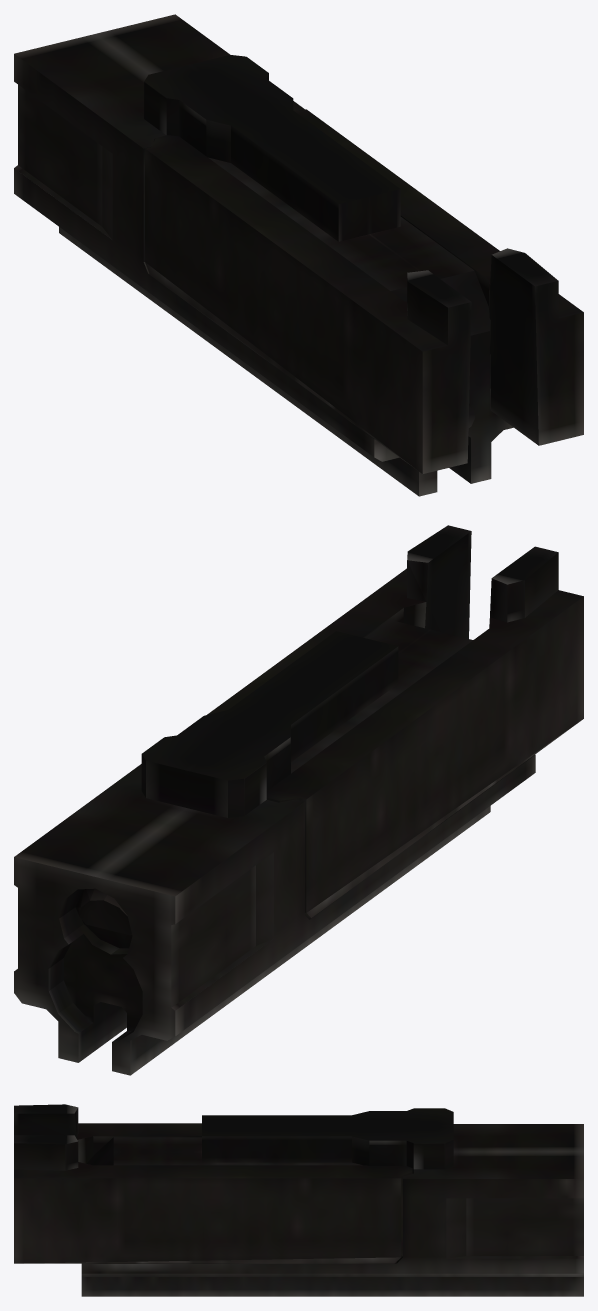
3 renders of one model, top to bottom at view 1: azimuth 30°, elevation 25°; view 2: azimuth 150°, elevation 25°; view 3: azimuth 270°, elevation 25°, orthographic. The views are drawn at different scales.
Parts seen in each view (by area): view 1: TW_6513ef33e06849f06c0957ca_PZ_Import; view 2: TW_6513ef33e06849f06c0957ca_PZ_Import; view 3: TW_6513ef33e06849f06c0957ca_PZ_Import.
Part boxes in pixels (left/top/right/bottom): TW_6513ef33e06849f06c0957ca_PZ_Import: left=14, top=14, right=583, bottom=496; TW_6513ef33e06849f06c0957ca_PZ_Import: left=14, top=525, right=583, bottom=1075; TW_6513ef33e06849f06c0957ca_PZ_Import: left=14, top=1104, right=583, bottom=1296.
Size of the model in its own units: 0.0113 by 0.0496 by 0.0153.
1 material, 1 textured.
